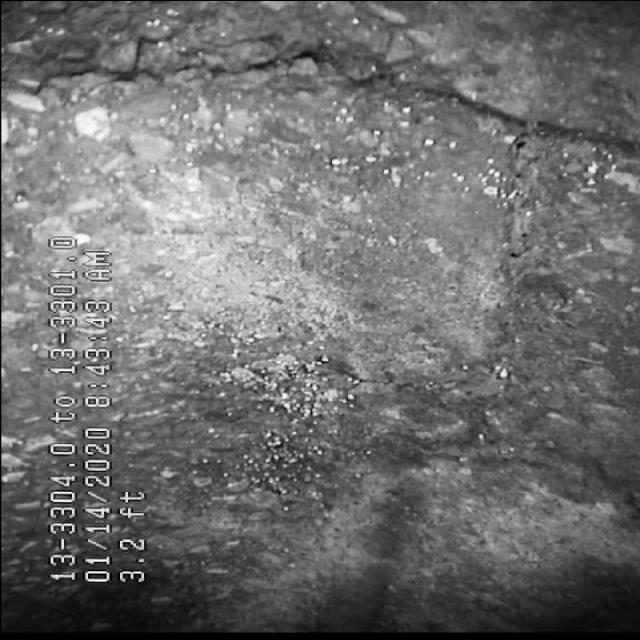Fracture: (34, 19, 568, 185)
